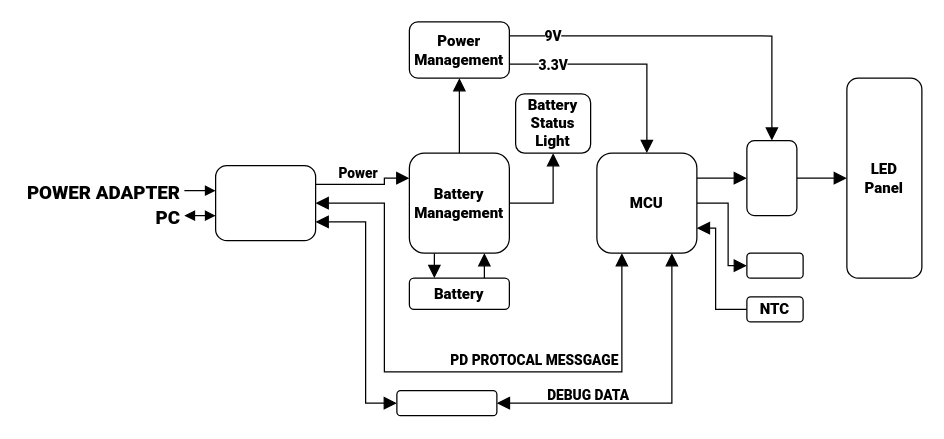
Some shapes in this 944 by 439 pixel diagram are drawn without their labels. Here are the shapes that lost their labels. From the top down, the box of each, then its label:
(746, 139, 797, 216): LED Driver
(214, 164, 316, 241): USB Type-C
(746, 252, 803, 278): Buzzer
(396, 389, 497, 416): USB-TTL
